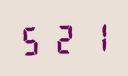five: (18, 22, 47, 56)
one: (79, 19, 108, 53)
two: (49, 20, 78, 55)
